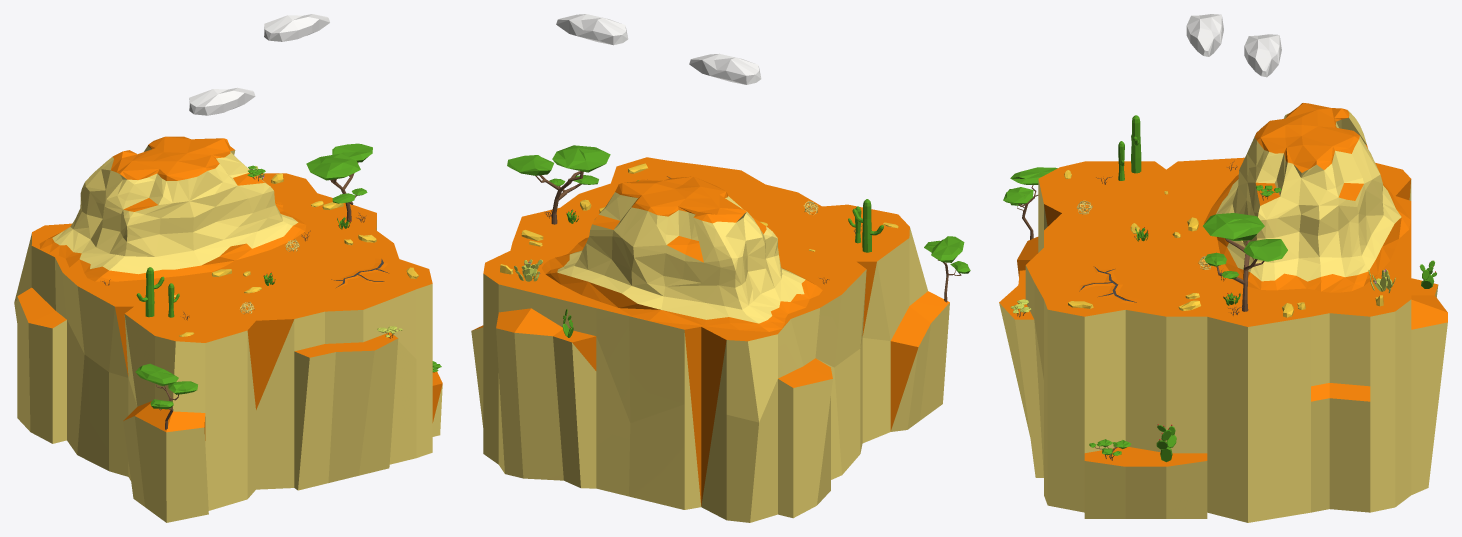
File: Island_1.glb
3 views of the same model, side by side, from view 1: azimuth 30°, elevation 25°; view 2: azimuth 150°, elevation 25°; view 3: azimuth 270°, elevation 25° (orthographic). The views are drawn at different scales.
Visible parts, largest first — view 1: Island_1_Base, Island_1_Rock, Island_1, Island_1_Crack; view 2: Island_1_Base, Island_1_Rock, Island_1; view 3: Island_1_Base, Island_1_Rock, Island_1, Island_1_Crack.
Part boxes in pixels (bbox=[...]): Island_1_Base: bbox=[14, 173, 442, 522]; Island_1_Rock: bbox=[39, 136, 305, 281]; Island_1: bbox=[102, 14, 441, 429]; Island_1_Crack: bbox=[331, 258, 388, 287]; Island_1_Base: bbox=[471, 157, 949, 522]; Island_1_Rock: bbox=[542, 176, 822, 331]; Island_1: bbox=[500, 14, 970, 337]; Island_1_Base: bbox=[999, 157, 1447, 522]; Island_1_Rock: bbox=[1203, 103, 1410, 292]; Island_1: bbox=[1003, 14, 1436, 462]; Island_1_Crack: bbox=[1079, 266, 1140, 303].
Bounding box in the file's own units: 24.4 × 26.45 × 24.45.
1 material, 1 textured.
